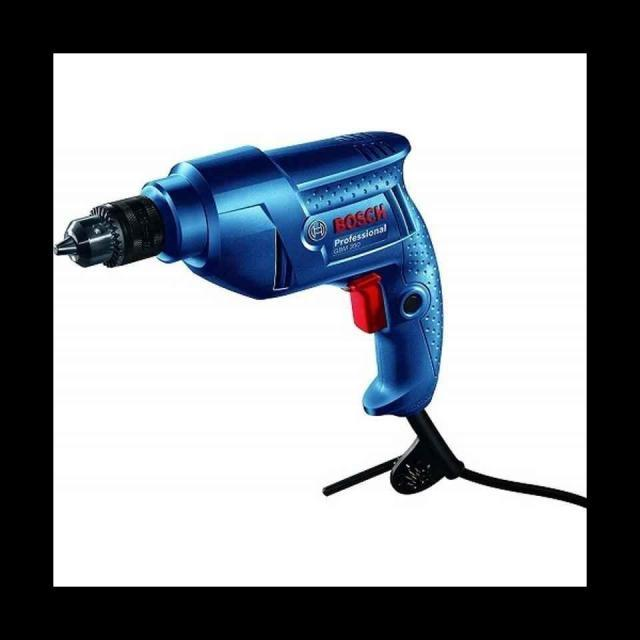drill: (53, 130, 466, 498)
